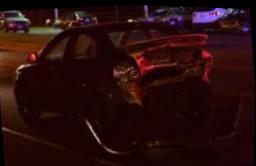Bumper: (99, 72, 209, 114)
Dickey: (113, 32, 207, 80)
Light: (198, 54, 218, 81), (111, 64, 139, 83)
